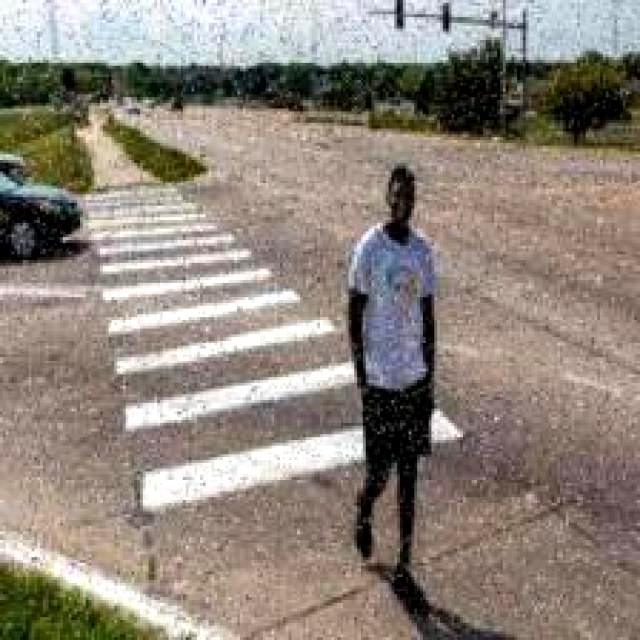crosswalk: (79, 167, 498, 528)
